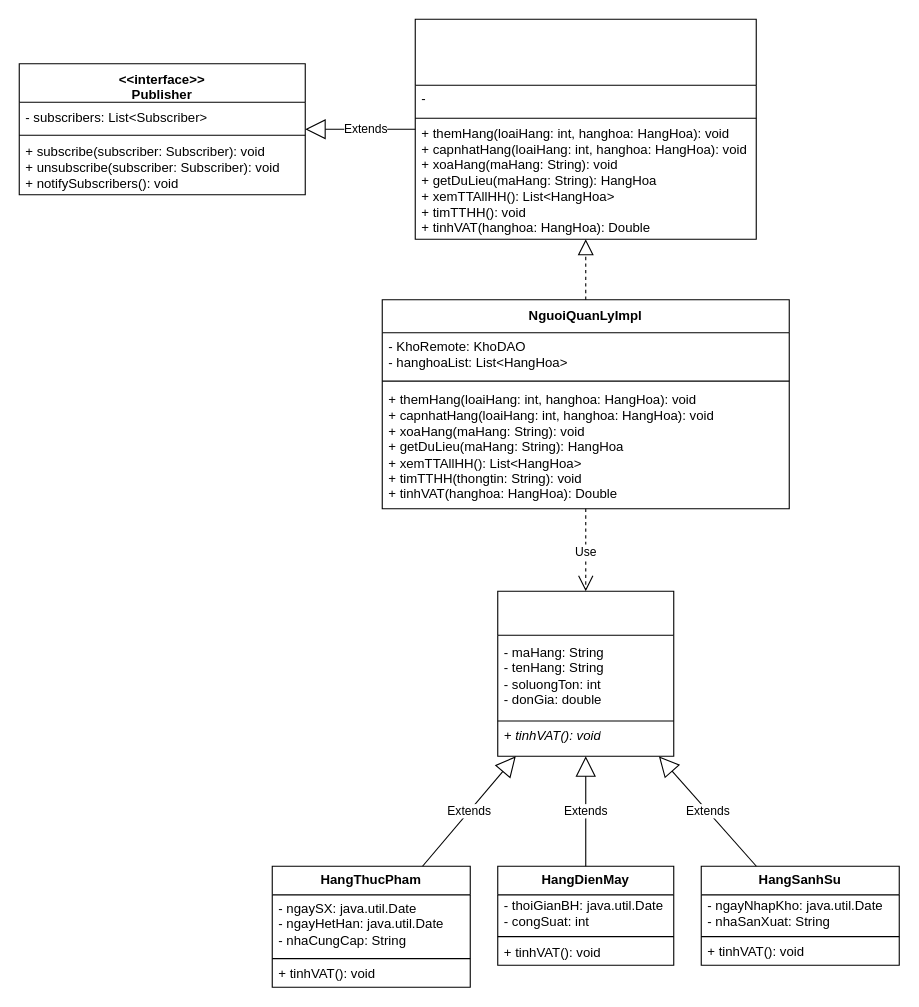
Some shapes in this 919 by 1007 pixel diagram are drawn without their labels. Here are the shapes that lost their labels. From the top down, the box of each, then its label:
(414, 18, 756, 239): <<Model>> <<interface>> NguoiQuanLy
(497, 590, 674, 756): <<abstract>> HangHoa
